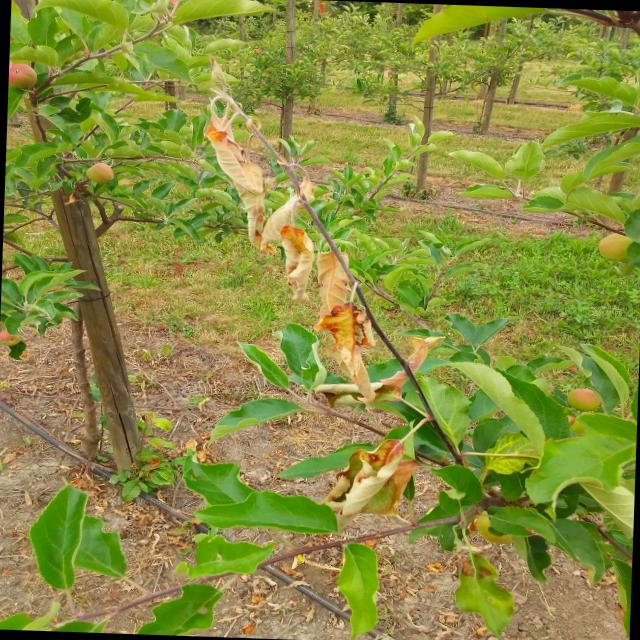-FireBlight-: (199, 89, 446, 409)
